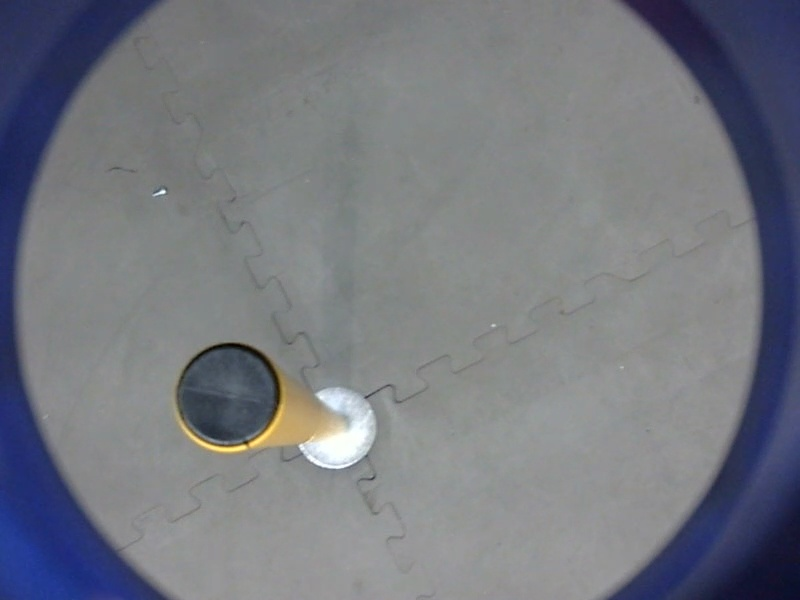tip: (167, 336, 288, 459)
